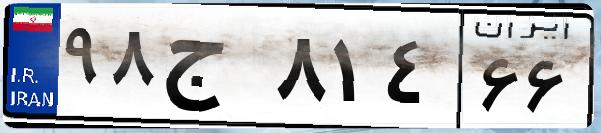1: (330, 28, 385, 110)
4: (385, 28, 445, 110)
6: (475, 38, 525, 113), (525, 38, 570, 115)
8: (270, 28, 330, 110), (110, 28, 158, 98)
9: (57, 26, 110, 100)
ج: (158, 20, 270, 120)
